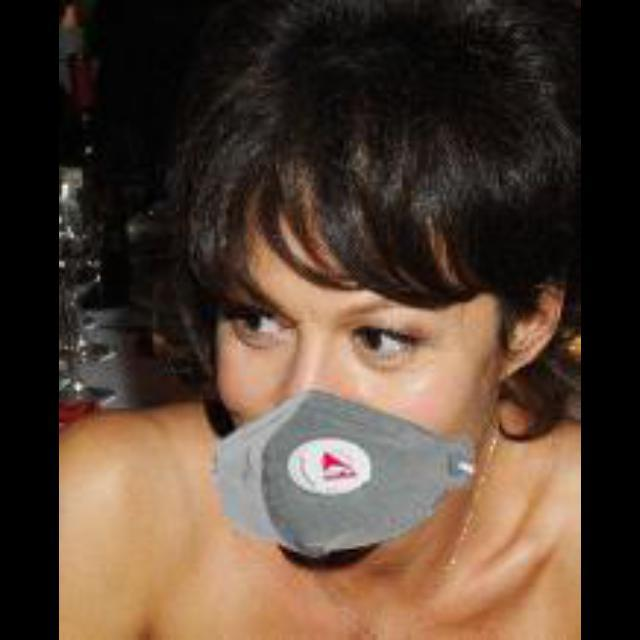suspicion: (170, 135, 544, 551)
